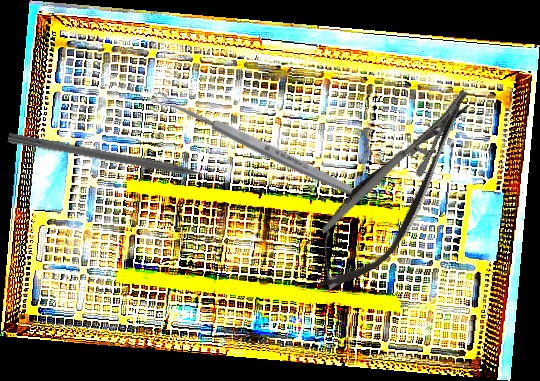Micro Scissor: (292, 79, 494, 309)
Needle Holder: (292, 87, 496, 234)
Pusher: (6, 131, 230, 188)
Surgical Spoon: (152, 89, 356, 198)
